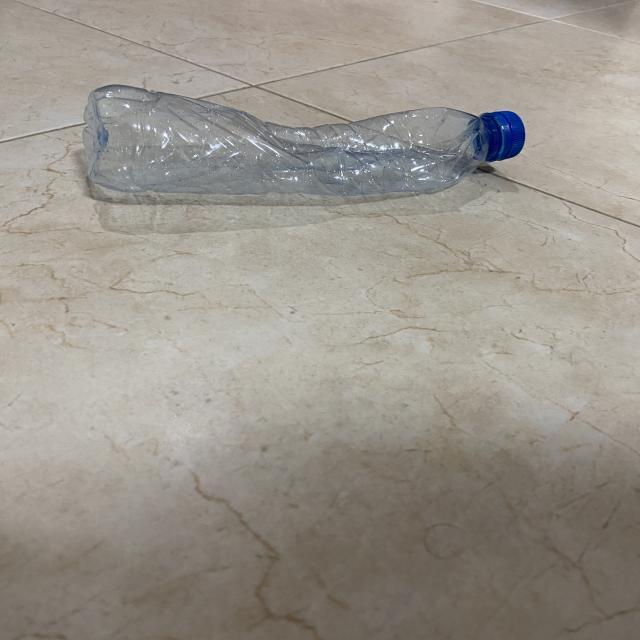chai: (83, 87, 527, 196)
